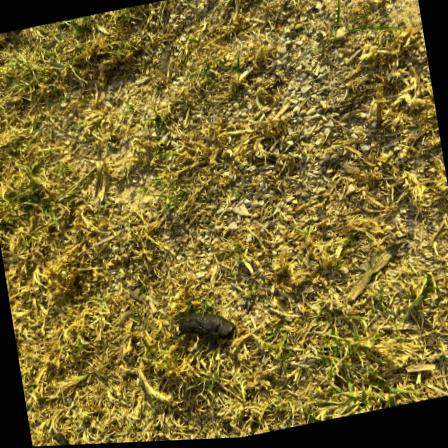dog-poop: (149, 289, 253, 368)
